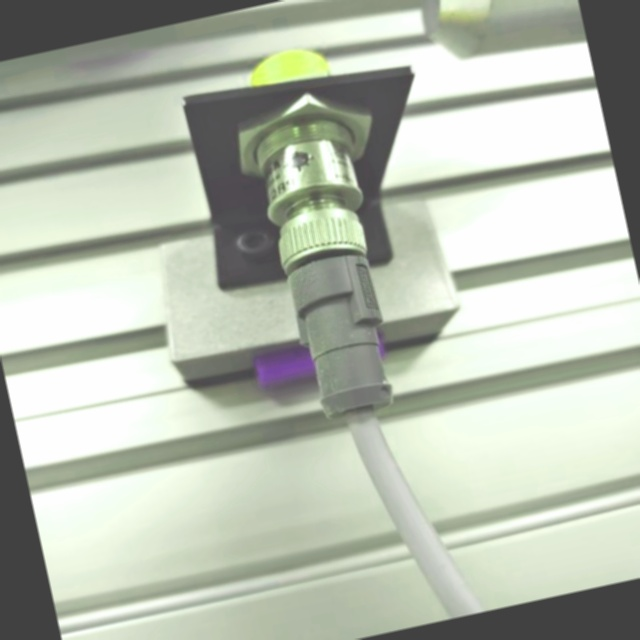inductive sensor: (95, 10, 500, 457)
